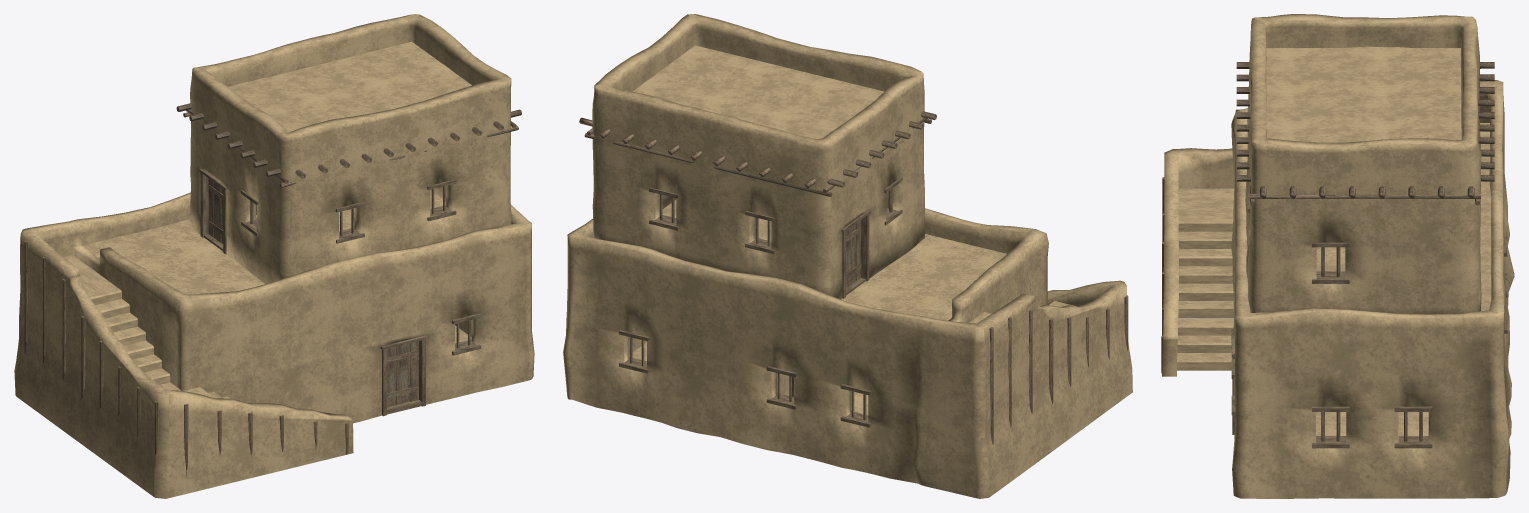
File: egypt_house_006.glb
3 renders of one model, left to right at view 1: azimuth 30°, elevation 25°; view 2: azimuth 150°, elevation 25°; view 3: azimuth 270°, elevation 25°, orthographic. The views are drawn at different scales.
Visible parts, largest first — view 1: upper, walls; view 2: upper, walls; view 3: upper, walls.
Part boxes in pixels (x1,y1,x2,y2): upper: [20, 14, 531, 327]; walls: [14, 219, 534, 498]; upper: [567, 14, 1061, 383]; walls: [563, 258, 1132, 498]; upper: [1231, 14, 1505, 342]; walls: [1161, 116, 1514, 498].
Bounding box in the file's own units: 8.81 × 6.07 × 5.61.
2 materials, 2 textured.
